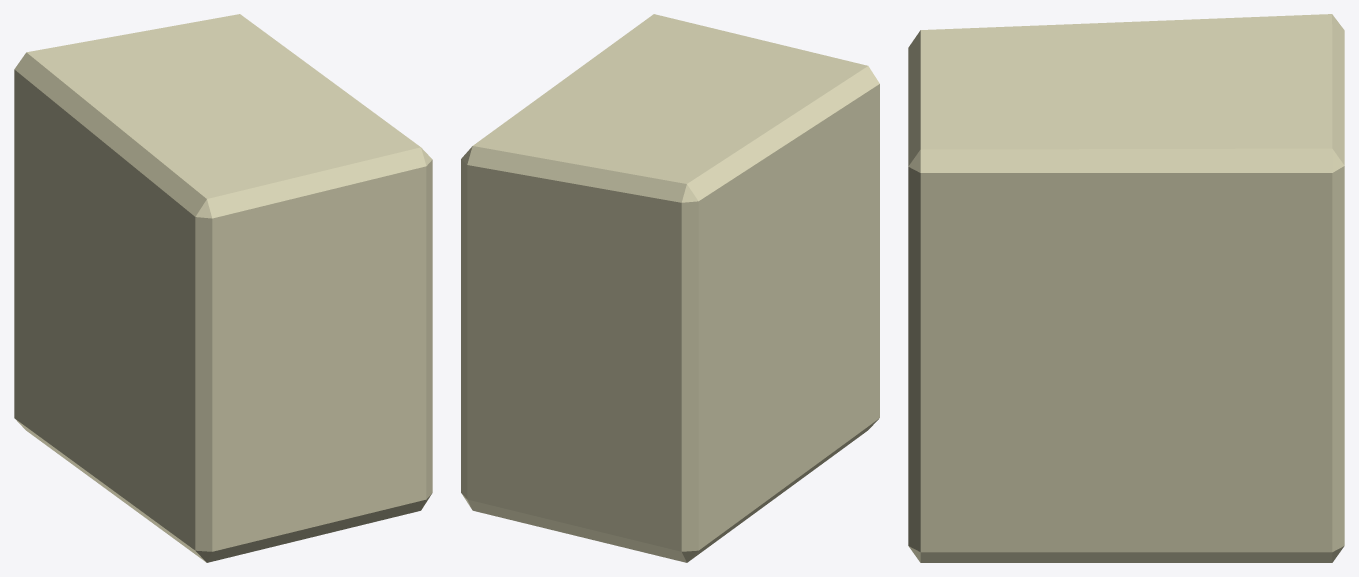
The model's file is Bathroom_Box02.fbx.
3 views of the same model, side by side, from view 1: azimuth 30°, elevation 25°; view 2: azimuth 150°, elevation 25°; view 3: azimuth 270°, elevation 25° (orthographic). The views are drawn at different scales.
Visible parts, largest first — view 1: pCube29; view 2: pCube29; view 3: pCube29.
Part boxes in pixels (box(x1,y1,x2,y2)): pCube29: box(14, 14, 432, 562); pCube29: box(461, 14, 879, 562); pCube29: box(908, 14, 1344, 562).
Bounding box in the file's own units: 1.31 × 1.99 × 1.83.
